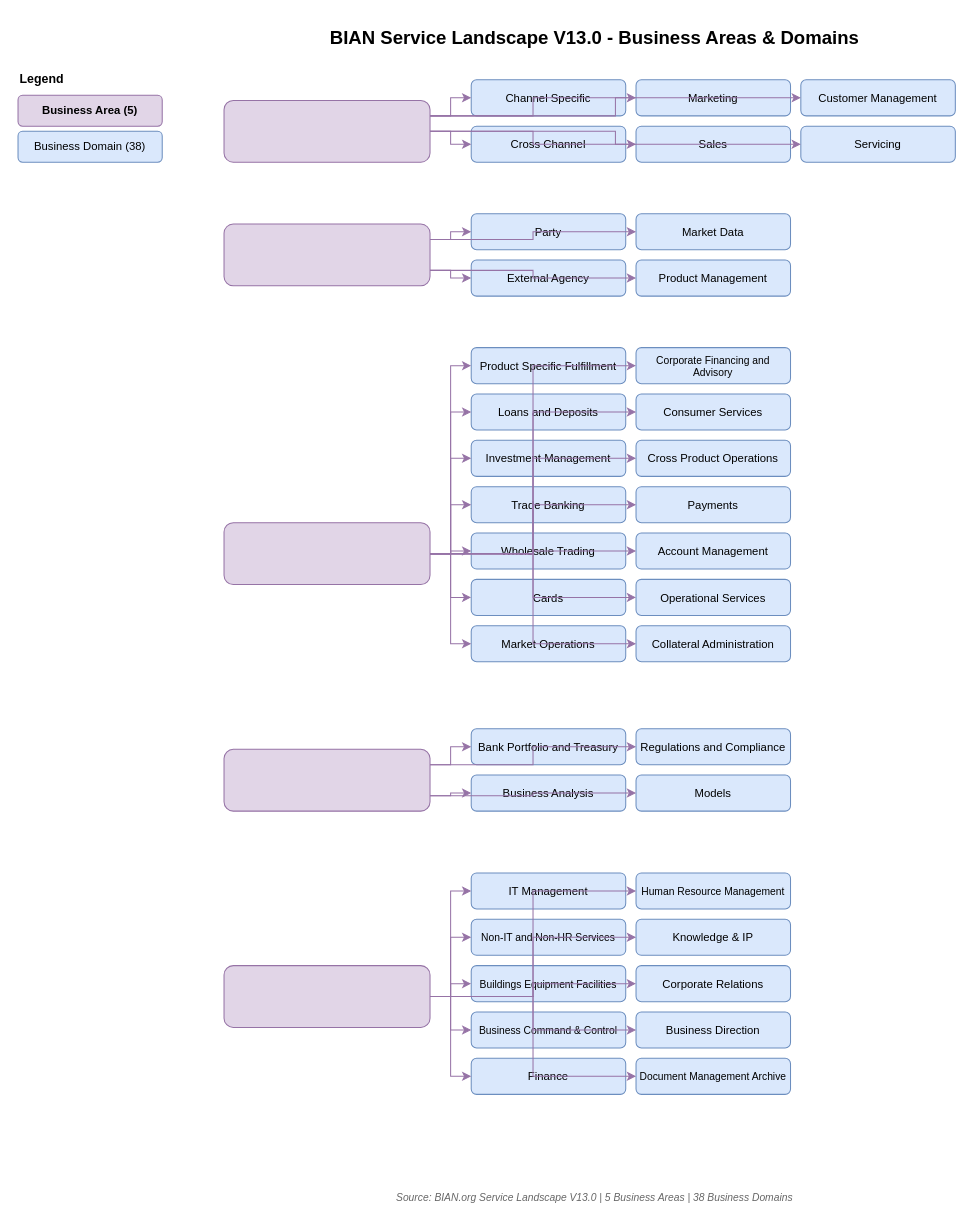
This 973x1230 diagram has some shape labels left out. The shapes that lost their labels are listed below. From the top down, each one's centre as x and y in pixels, then its label:
At (326,130): "Sales and Service".
At (326,254): "Reference Data".
At (326,553): "Operations and Execution".
At (326,779): "Risk and Compliance".
At (326,996): "Business Support".
